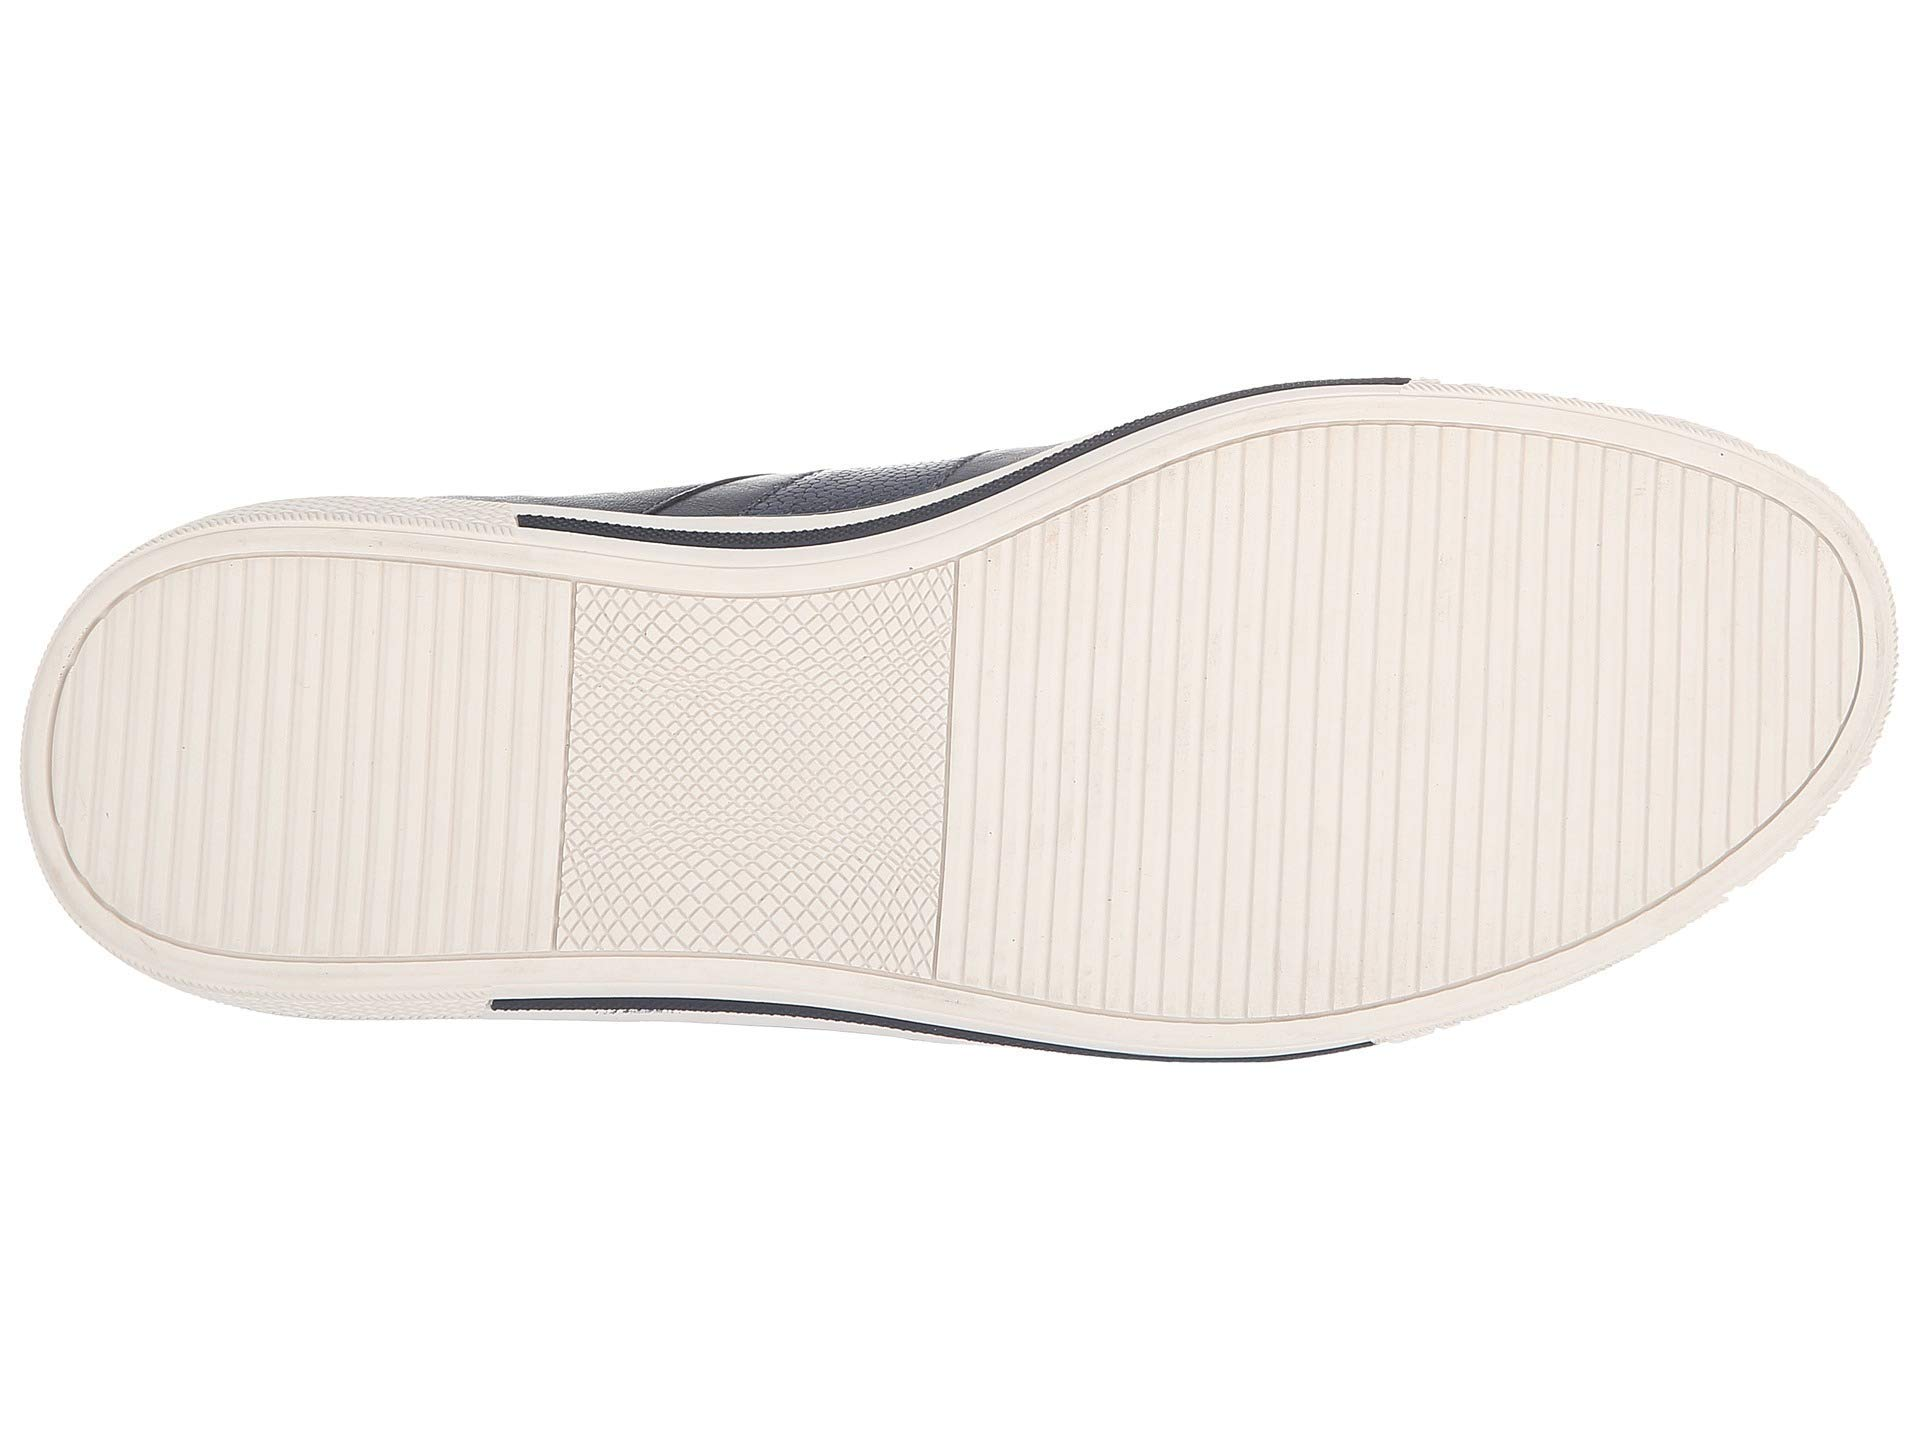line: (1069, 525, 1678, 843), (147, 632, 544, 933)
quad: (611, 616, 907, 948)
